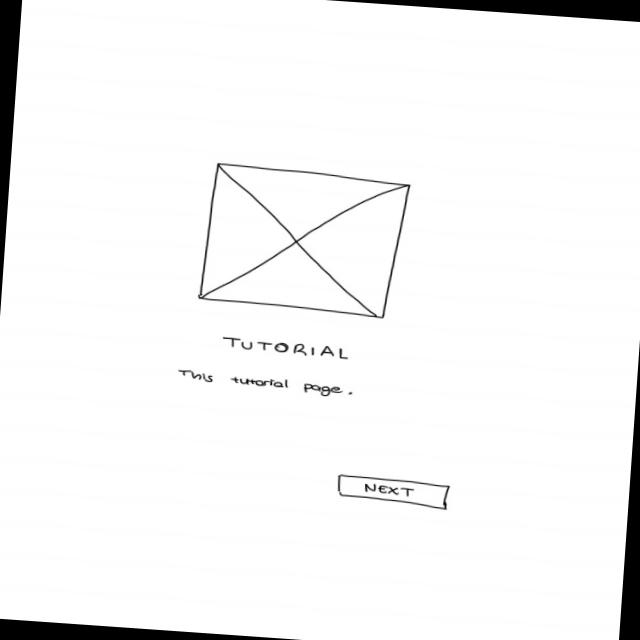button: (336, 473, 454, 511)
image: (197, 161, 413, 322)
label: (176, 370, 356, 400), (221, 335, 354, 363)
